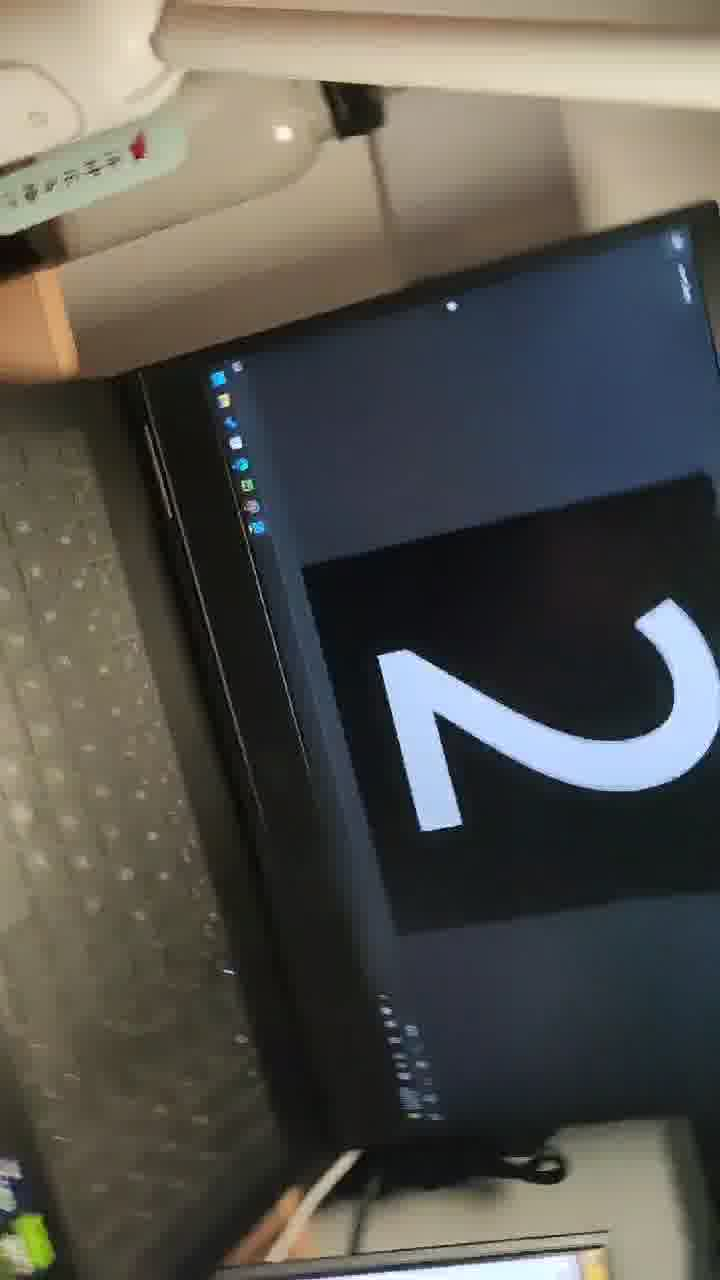two: (362, 523, 720, 1004)
